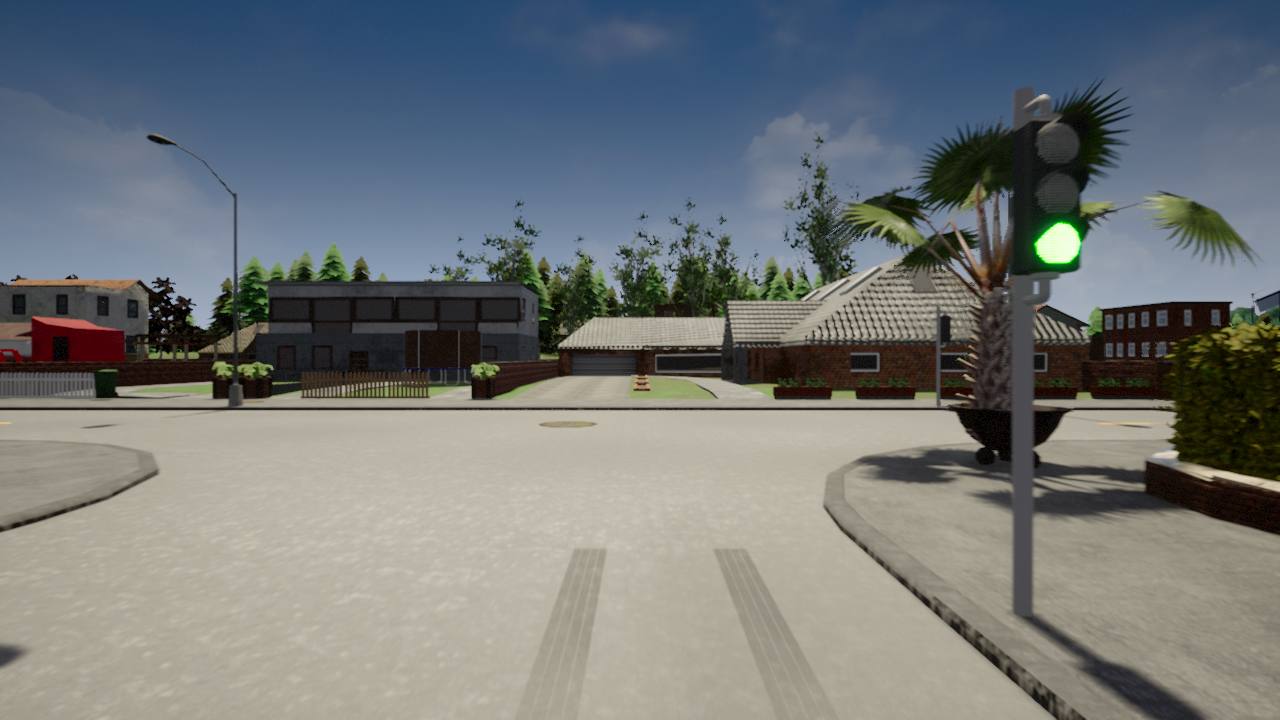green: (1014, 114, 1083, 274)
